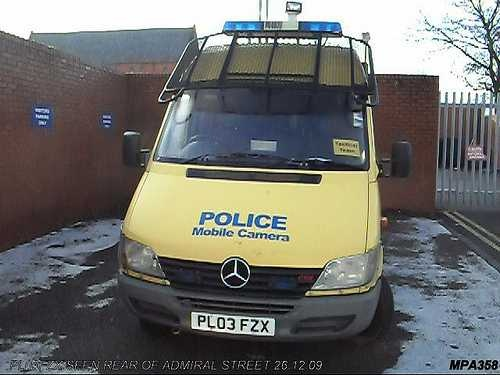Police Van: (117, 8, 401, 364)
